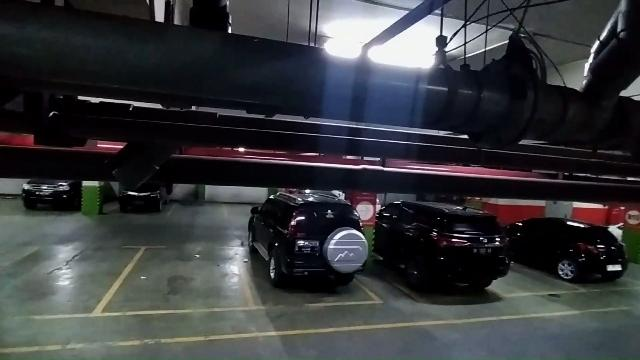empty: (103, 241, 255, 317)
occupied: (242, 217, 374, 314)
